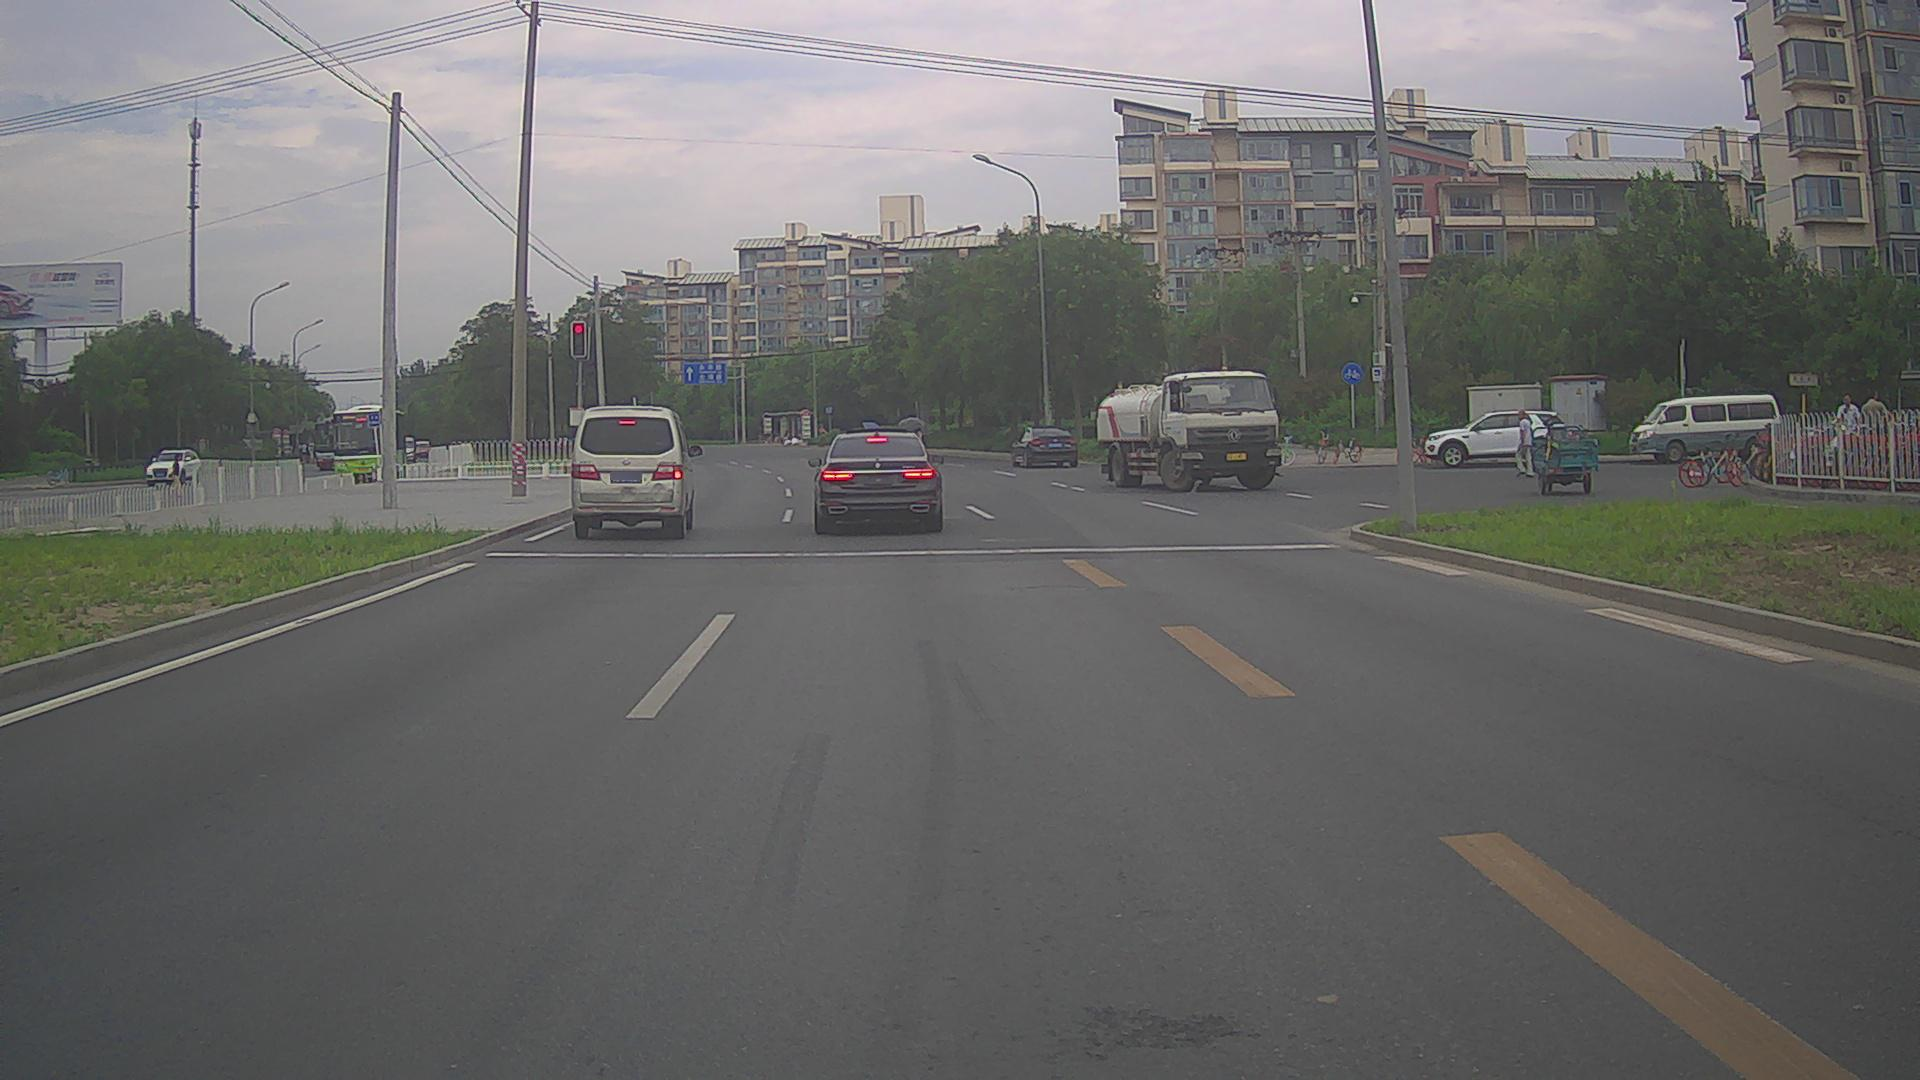bus: (323, 404, 406, 483), (309, 416, 372, 471)
car: (808, 426, 944, 534), (1424, 410, 1564, 467), (1010, 425, 1077, 468), (145, 448, 201, 488), (413, 444, 434, 460)
ignore: (1676, 440, 1752, 487), (781, 429, 799, 444), (914, 428, 922, 439)
pedestrian: (1862, 387, 1889, 483), (1835, 393, 1862, 482), (1514, 409, 1534, 477), (170, 453, 181, 498), (296, 440, 303, 462), (300, 441, 307, 465), (275, 443, 282, 467), (768, 429, 775, 443)
tricyclelist: (1531, 423, 1599, 495)
truck: (1096, 370, 1283, 492)
van: (570, 405, 703, 539), (1628, 394, 1779, 463), (395, 437, 416, 464)
